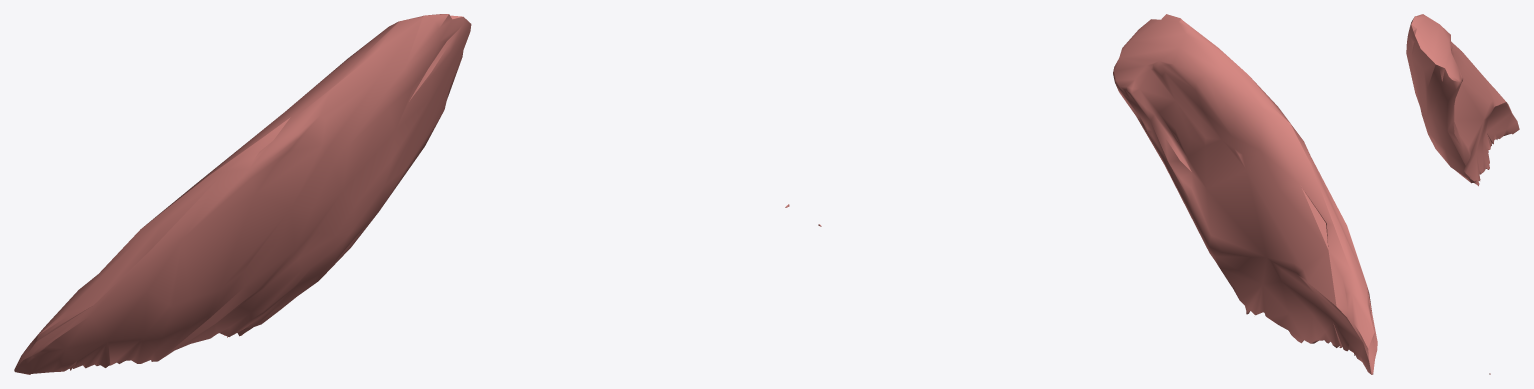
File: fma46313_fj1588.glb
3 views of the same model, side by side, from view 1: azimuth 30°, elevation 25°; view 2: azimuth 150°, elevation 25°; view 3: azimuth 270°, elevation 25° (orthographic). The views are drawn at different scales.
Visible parts, largest first — view 1: FMA46313_FJ1588; view 2: FMA46313_FJ1588; view 3: FMA46313_FJ1588.
Boxes of the visible parts, x1,y1,x2,y2 form: FMA46313_FJ1588: (14,14,789,374); FMA46313_FJ1588: (818,14,1377,374); FMA46313_FJ1588: (1406,14,1519,374).
Bounding box in the file's own units: 0.0489 × 0.0209 × 0.00961.
